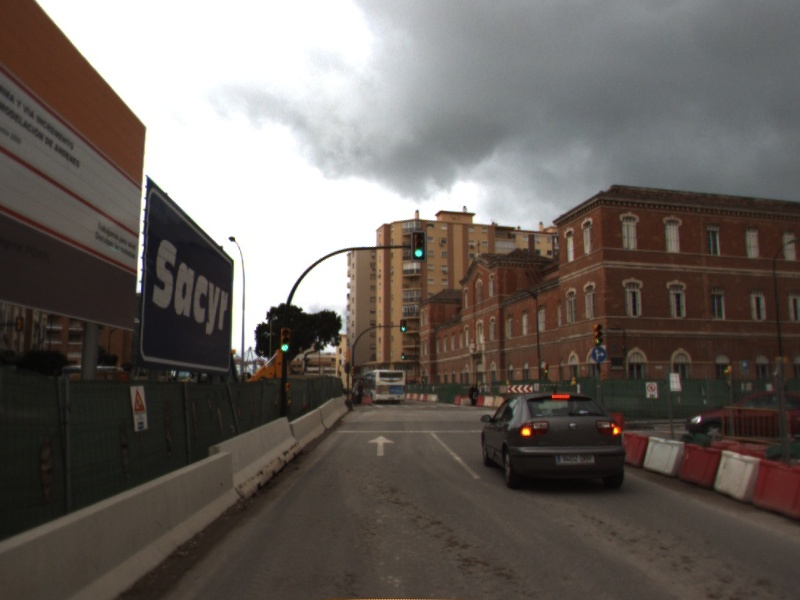STRAIGHT: (365, 434, 397, 458)
